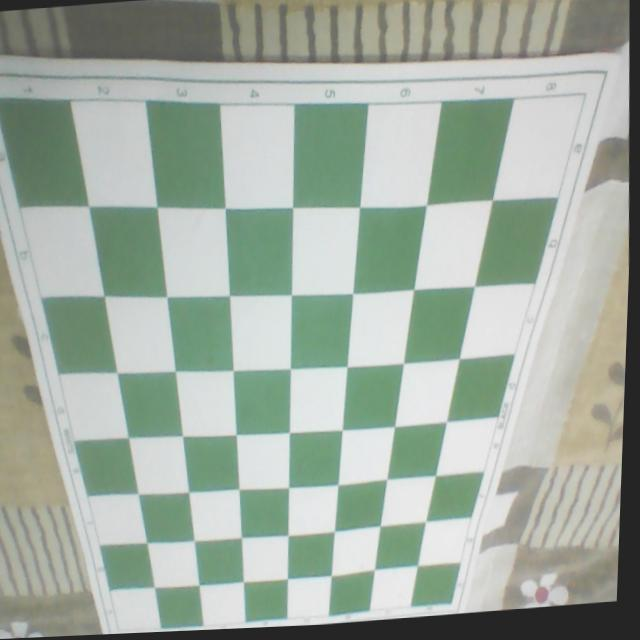square: (67, 88, 160, 217), (0, 89, 91, 216), (491, 88, 588, 204), (142, 89, 228, 216), (426, 91, 516, 207), (358, 94, 444, 212), (216, 94, 297, 215), (290, 94, 371, 214), (87, 199, 169, 304), (16, 200, 100, 298), (476, 193, 559, 292), (153, 201, 230, 304), (414, 198, 494, 297), (350, 200, 429, 297), (220, 202, 295, 301), (289, 201, 362, 300), (38, 292, 117, 381), (100, 289, 174, 380), (162, 290, 234, 378), (461, 280, 536, 364), (403, 284, 477, 367), (347, 285, 417, 371), (226, 290, 294, 377), (57, 366, 129, 447), (289, 289, 355, 373), (393, 353, 462, 430), (171, 363, 237, 443), (116, 367, 183, 444), (449, 352, 517, 425), (341, 359, 406, 433), (286, 361, 349, 437), (231, 364, 292, 439), (73, 434, 137, 500), (232, 426, 291, 495), (337, 421, 396, 488), (182, 430, 241, 496), (388, 420, 448, 482), (435, 417, 498, 475), (128, 435, 189, 493), (288, 427, 343, 491), (138, 491, 195, 548), (286, 478, 340, 538), (236, 484, 290, 542), (427, 471, 485, 525), (87, 493, 146, 545), (333, 479, 387, 535), (99, 540, 153, 594), (380, 475, 436, 525), (192, 537, 244, 589), (374, 521, 426, 573), (285, 531, 336, 583), (189, 489, 241, 540), (417, 516, 471, 565), (331, 525, 380, 576), (410, 563, 461, 611), (146, 540, 198, 587), (108, 586, 161, 631), (154, 584, 203, 632), (327, 571, 375, 619), (242, 535, 288, 583), (369, 566, 417, 610), (243, 580, 288, 625), (198, 582, 245, 625), (286, 576, 331, 619)
